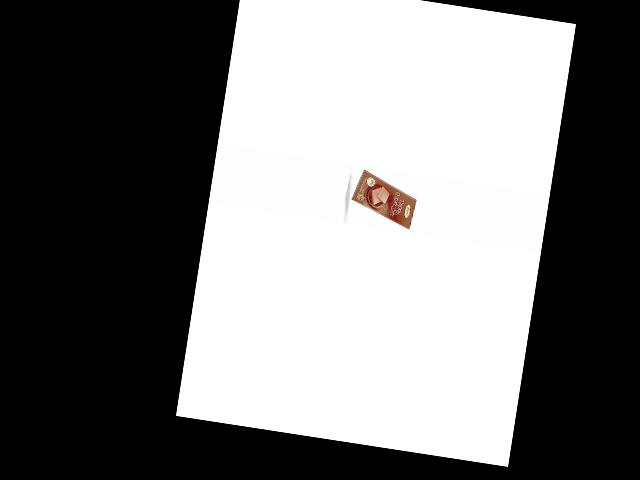chocolate: (345, 166, 421, 231)
